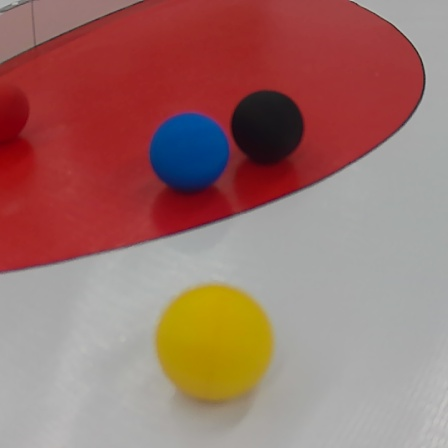black: (232, 92, 302, 161)
blue: (147, 115, 232, 192)
red: (1, 76, 29, 148)
red_base: (0, 2, 427, 269)
yellow: (152, 282, 277, 404)
